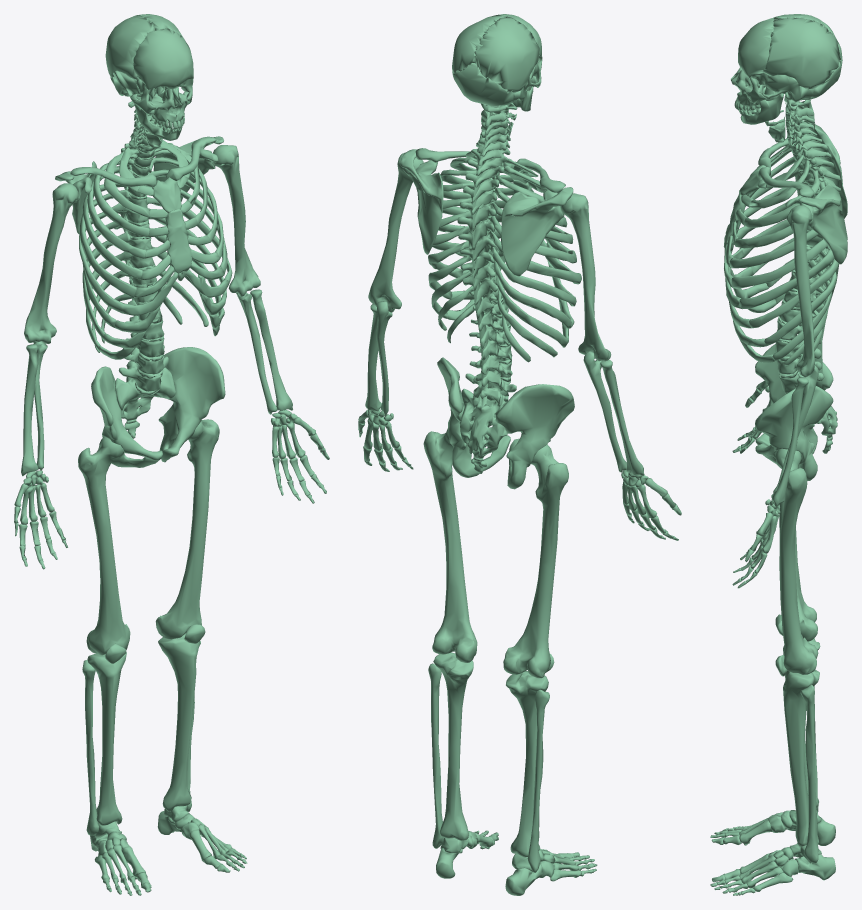
Rendered from skeleton-low.glb.
3 views of the same model, side by side, from view 1: azimuth 30°, elevation 25°; view 2: azimuth 150°, elevation 25°; view 3: azimuth 270°, elevation 25° (orthographic). The views are drawn at different scales.
Visible parts, largest first — view 1: skeleton; view 2: skeleton; view 3: skeleton.
Part boxes in pixels (x1,y1,x2,y2): skeleton: [14, 14, 329, 895]; skeleton: [358, 14, 681, 895]; skeleton: [710, 14, 847, 895].
Bounding box in the file's own units: 0.7823 × 1.98 × 0.2925.
